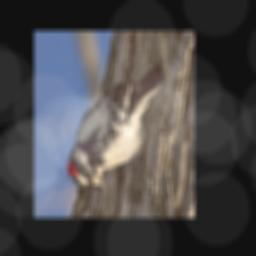Woodpecker: (66, 60, 164, 191)
